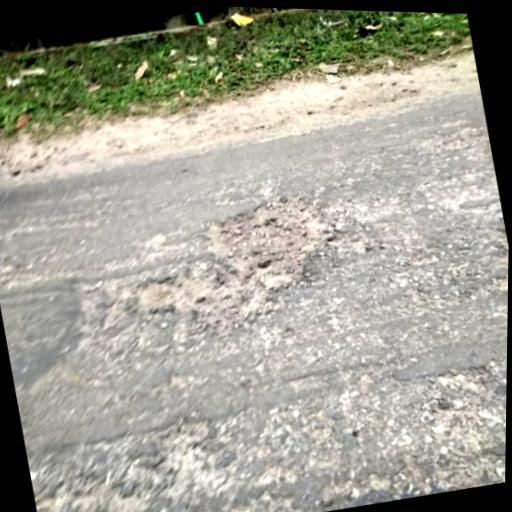pothole: (118, 173, 353, 344)
